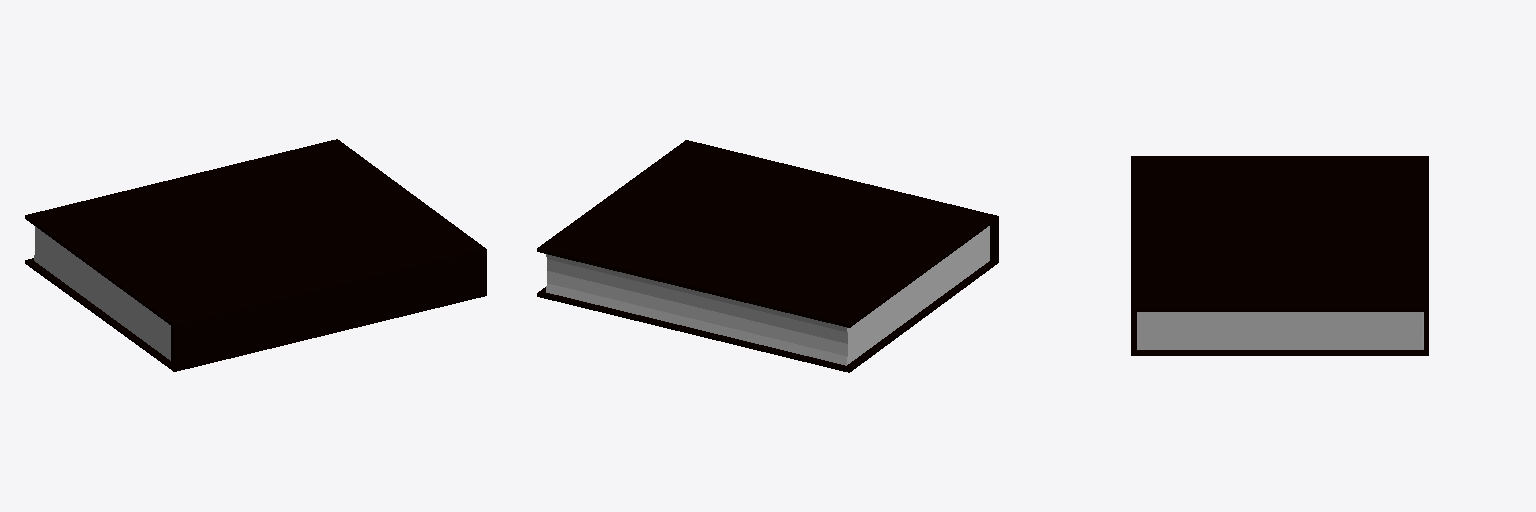
Rendered from Book.obj.
3 renders of one model, left to right at view 1: azimuth 30°, elevation 25°; view 2: azimuth 150°, elevation 25°; view 3: azimuth 270°, elevation 25°, orthographic.
Bounding box in the file's own units: 0.2389 × 0.0355 × 0.1976.